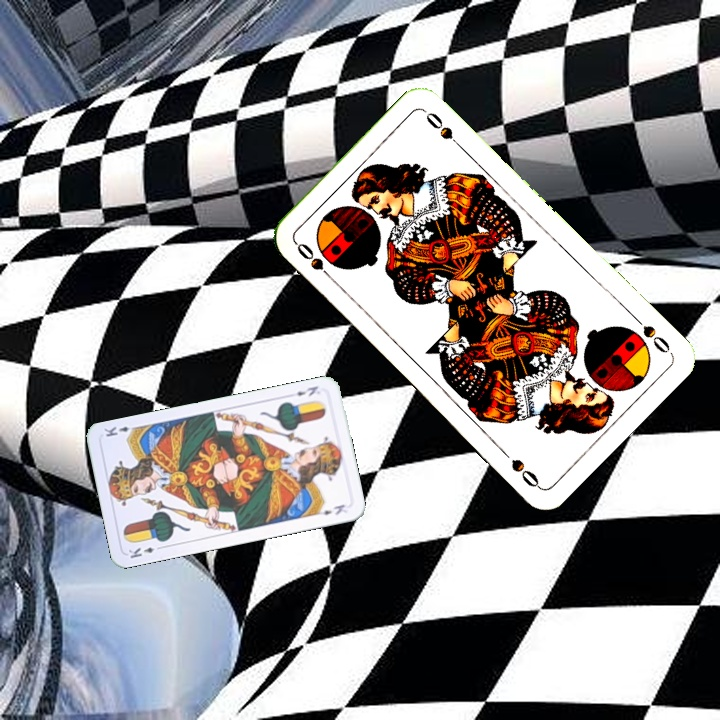EK: (124, 542, 165, 561), (292, 382, 321, 399)
SO: (291, 238, 338, 284), (628, 310, 673, 356)
